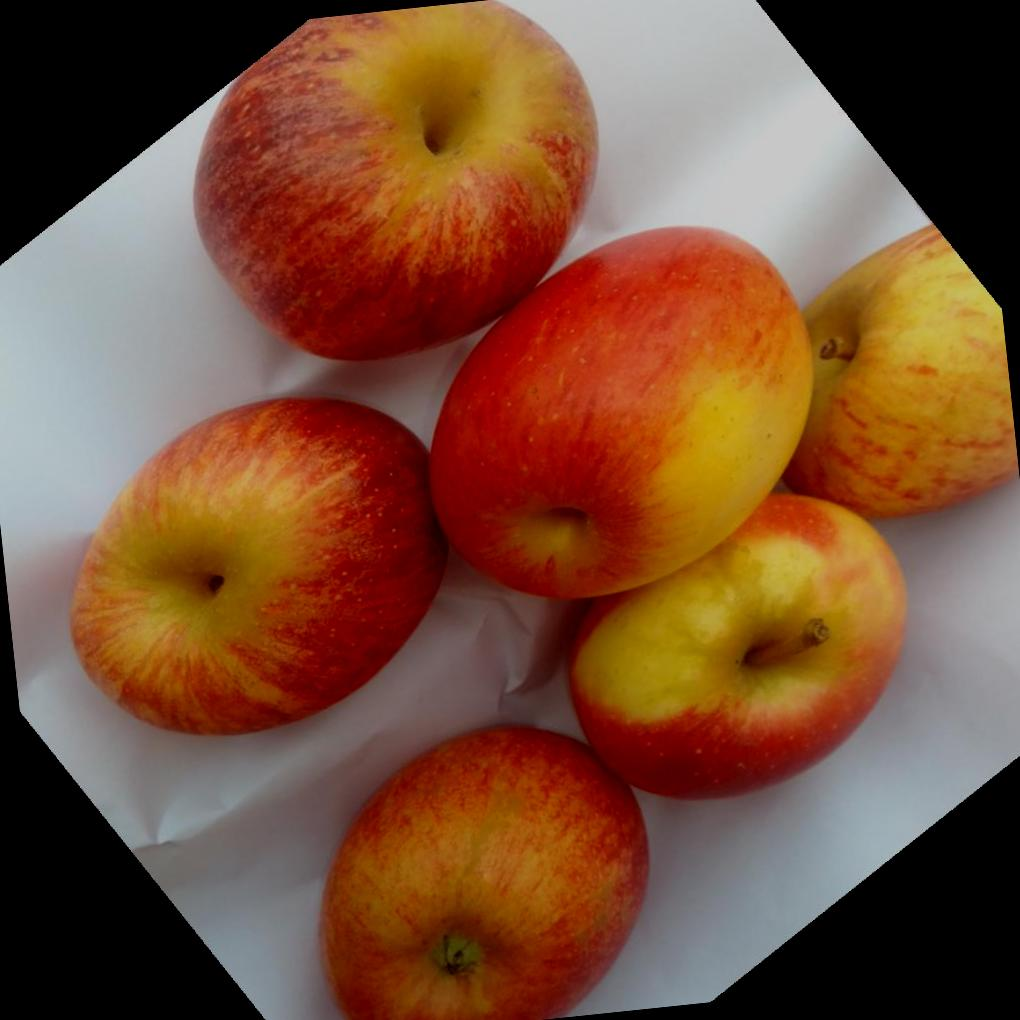FreshGuava: (64, 0, 1019, 1020)
